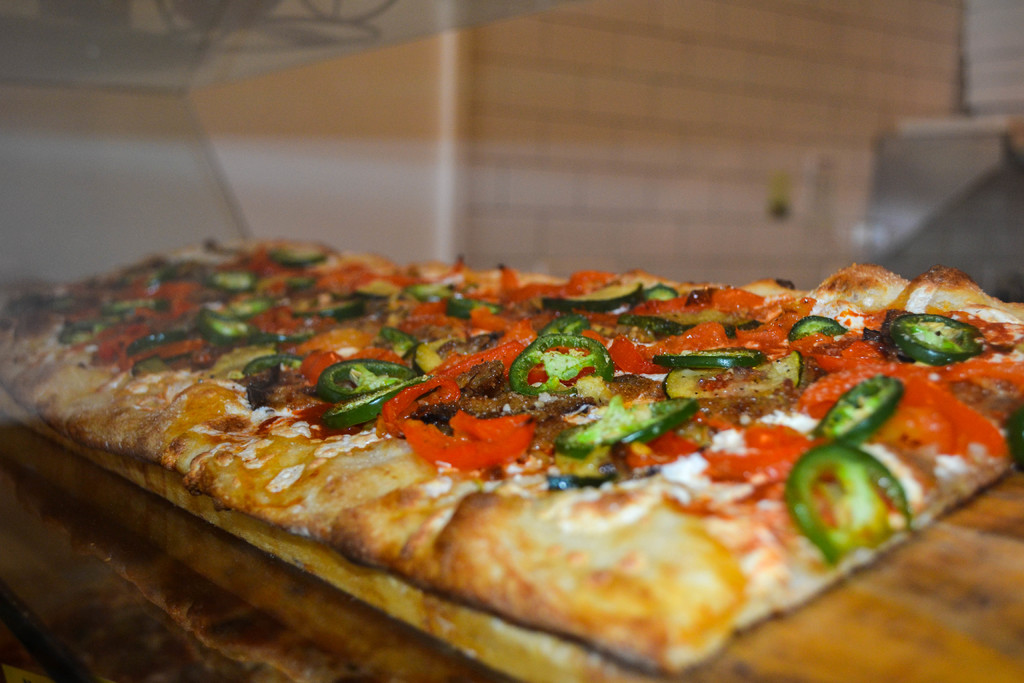Pizza: (2, 246, 1010, 681)
